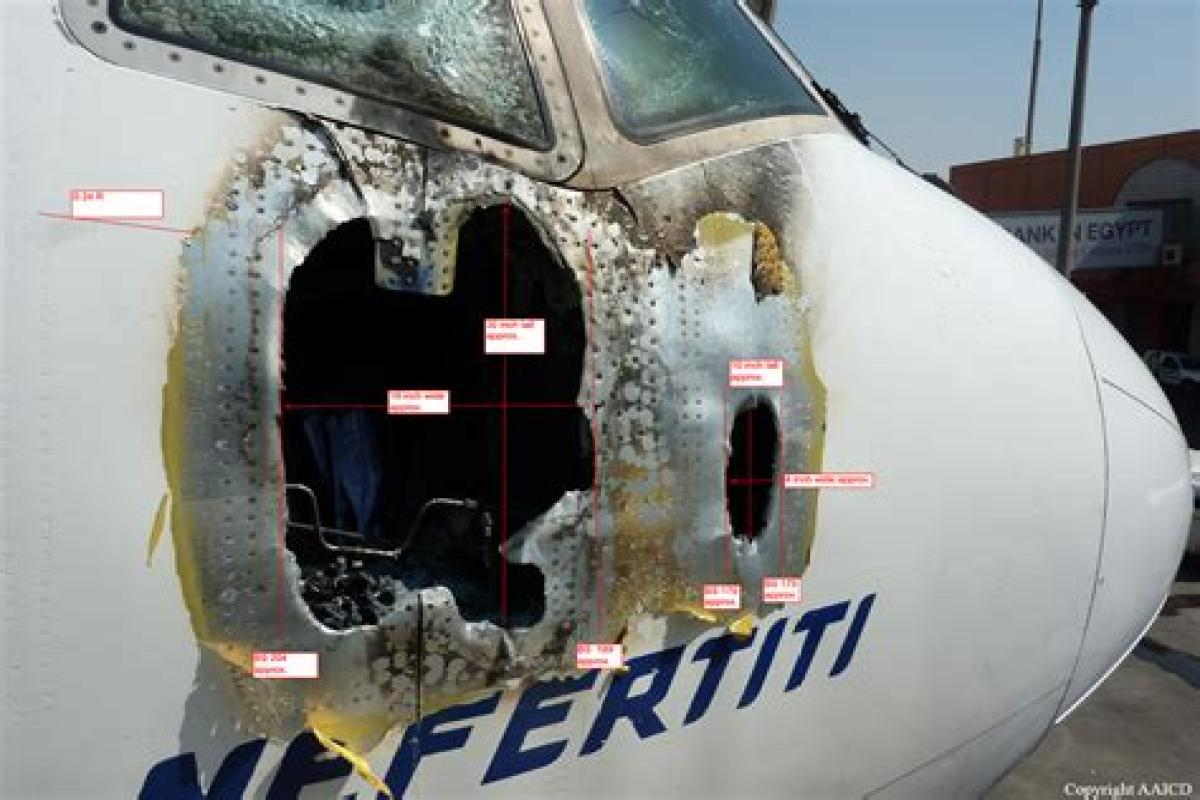Fuselage_damage: (129, 123, 850, 777), (87, 1, 626, 175)
